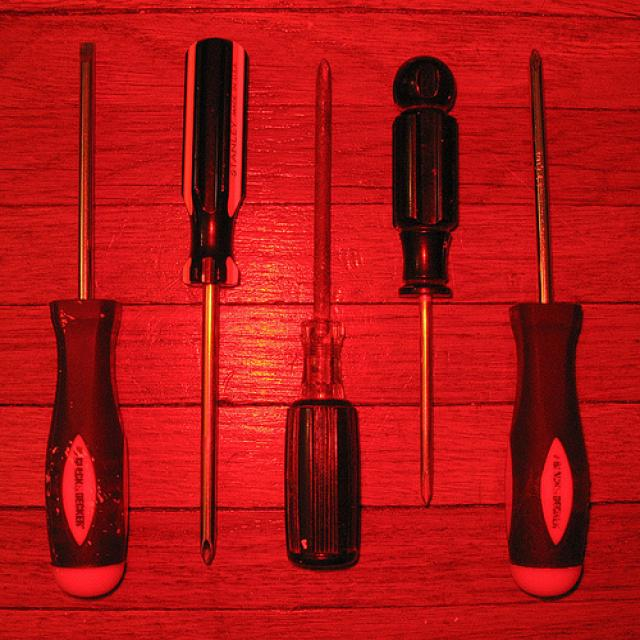screw_driver: (18, 29, 132, 614), (147, 32, 267, 586), (509, 54, 595, 604), (286, 59, 360, 568), (390, 54, 458, 508)
